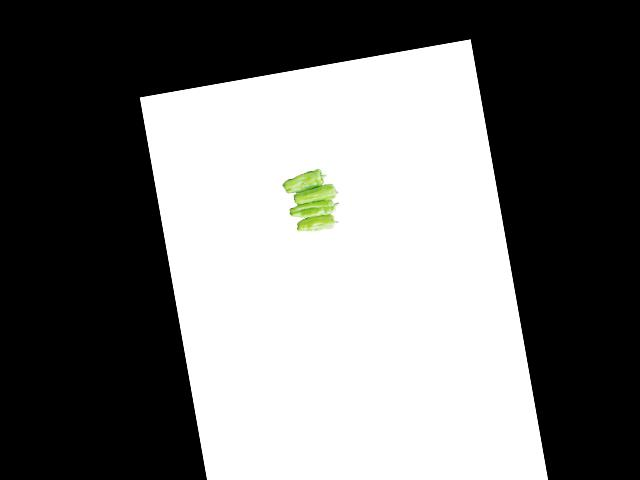bell_pepper: (277, 167, 330, 195)
